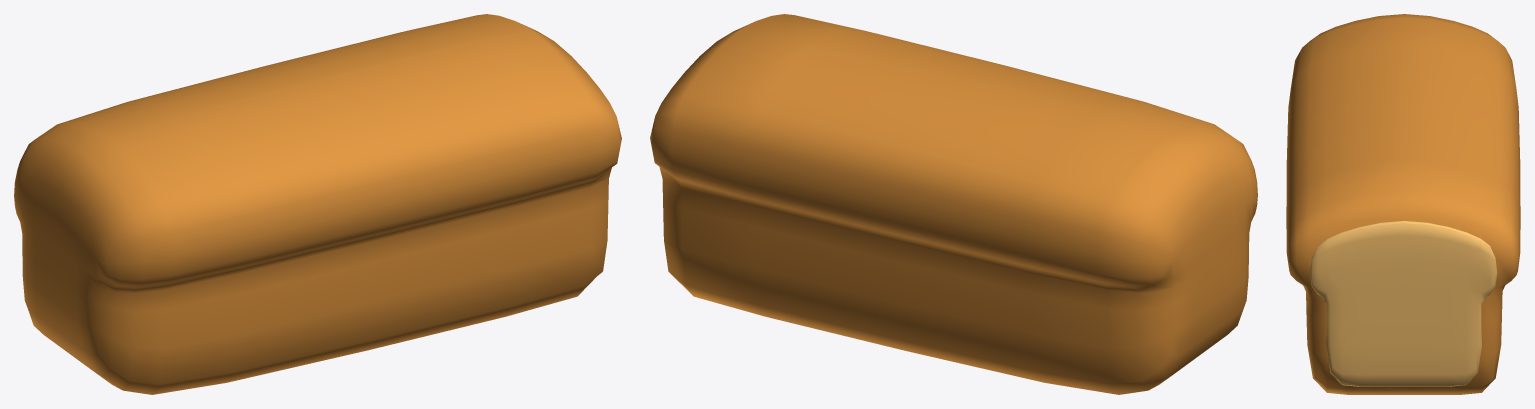
The model's file is pan  caja uv.fbx.
3 renders of one model, left to right at view 1: azimuth 30°, elevation 25°; view 2: azimuth 150°, elevation 25°; view 3: azimuth 270°, elevation 25°, orthographic. The views are drawn at different scales.
Visible parts, largest first — view 1: cubo de pan; view 2: cubo de pan; view 3: cubo de pan.
Boxes of the visible parts, x1=… form: cubo de pan: x1=14, y1=14, x2=621, y2=394; cubo de pan: x1=650, y1=14, x2=1257, y2=394; cubo de pan: x1=1286, y1=14, x2=1520, y2=394.
Size of the model in its own units: 208 by 93.88 by 96.29.
